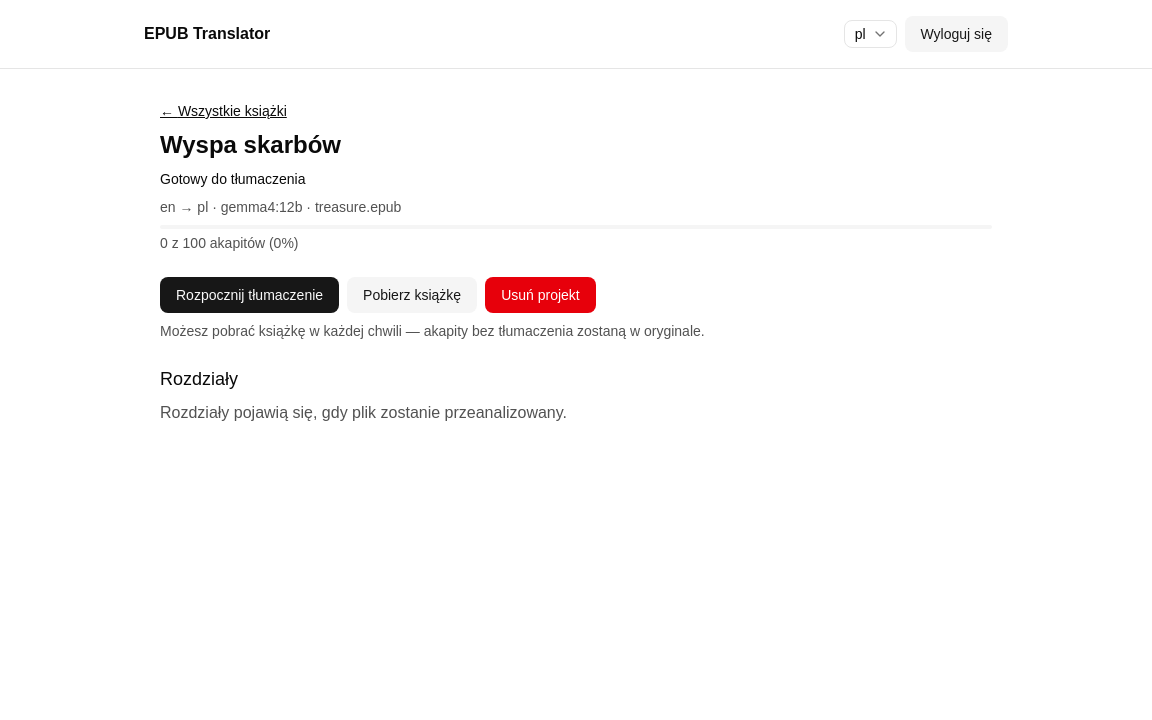
Test: ProjectDetailPage › deletes the project only after a confirmation
This screenshot has width=1152, height=720.
Click the button "Usuń projekt".
click(540, 295)  # box [485,277,596,313]
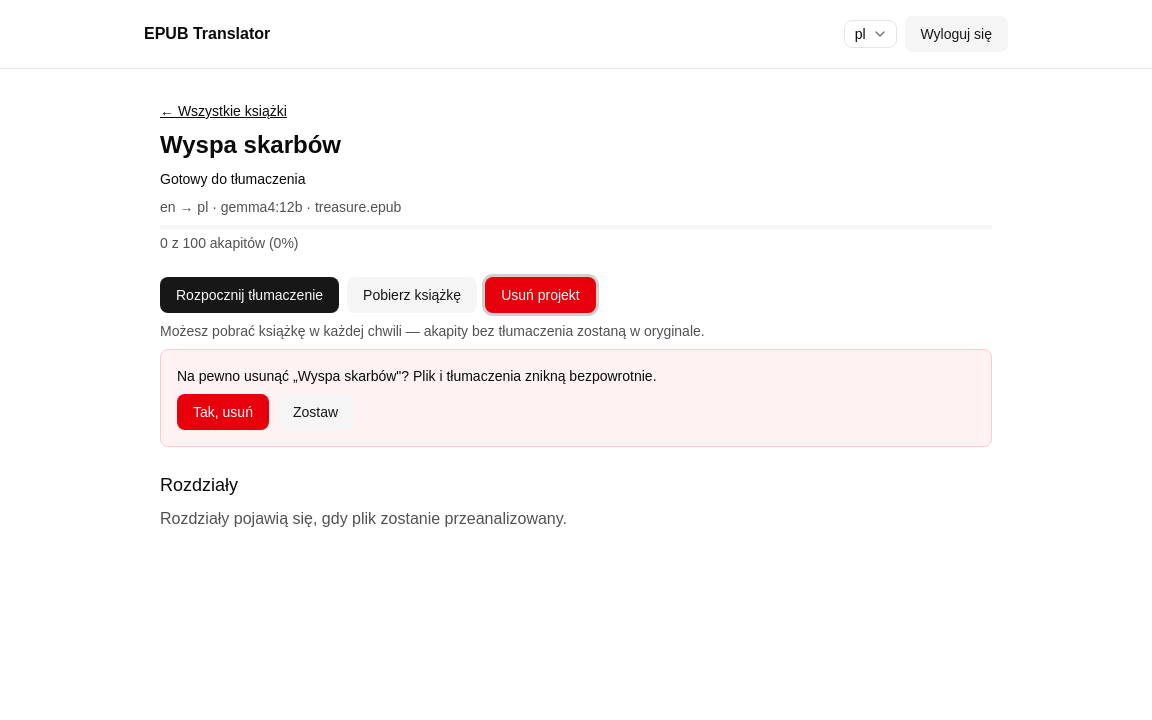
Click the button "Tak, usuń".
click(223, 412)  # box [177,394,269,430]
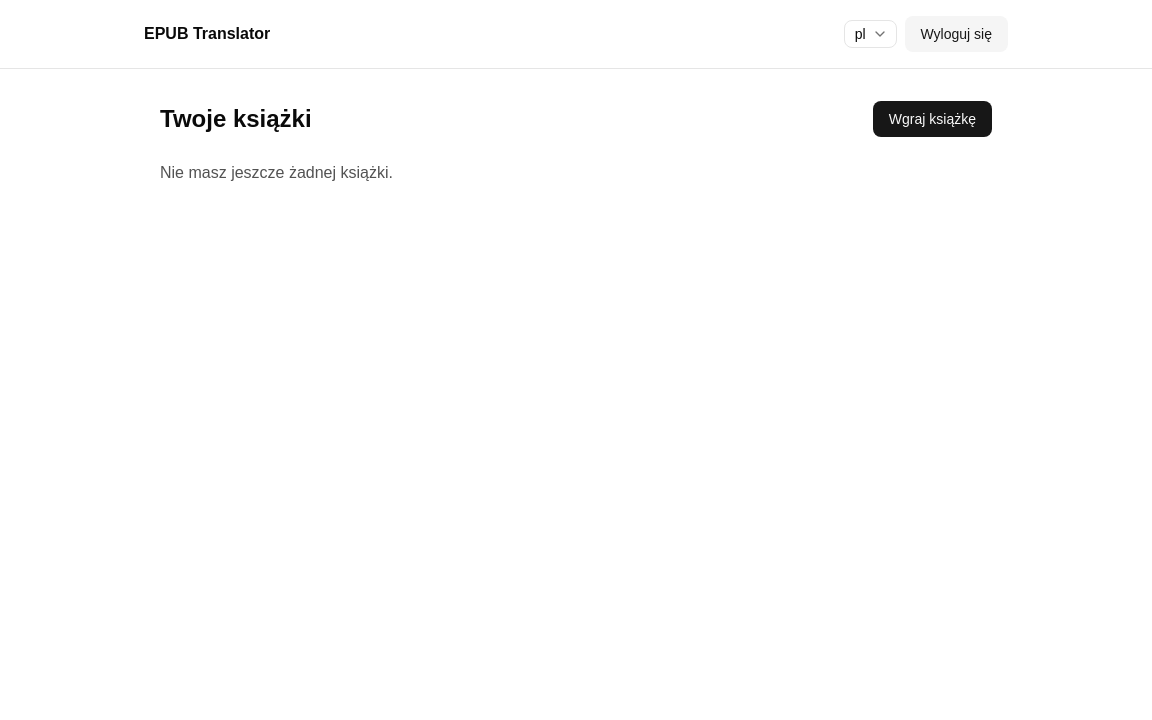
expect the heading "Twoje książki" is shown: met, box [160,103,312,135]
